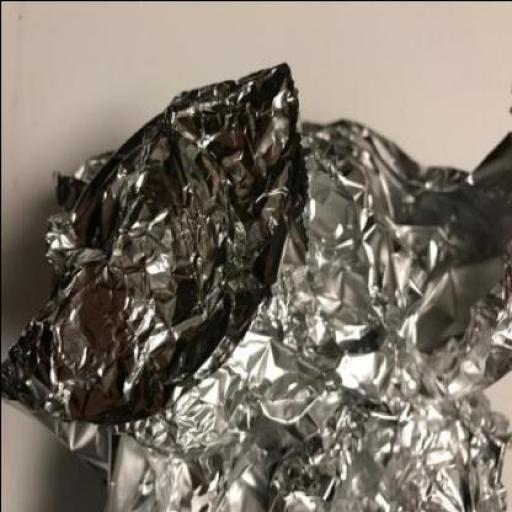metal: (1, 59, 511, 512)
